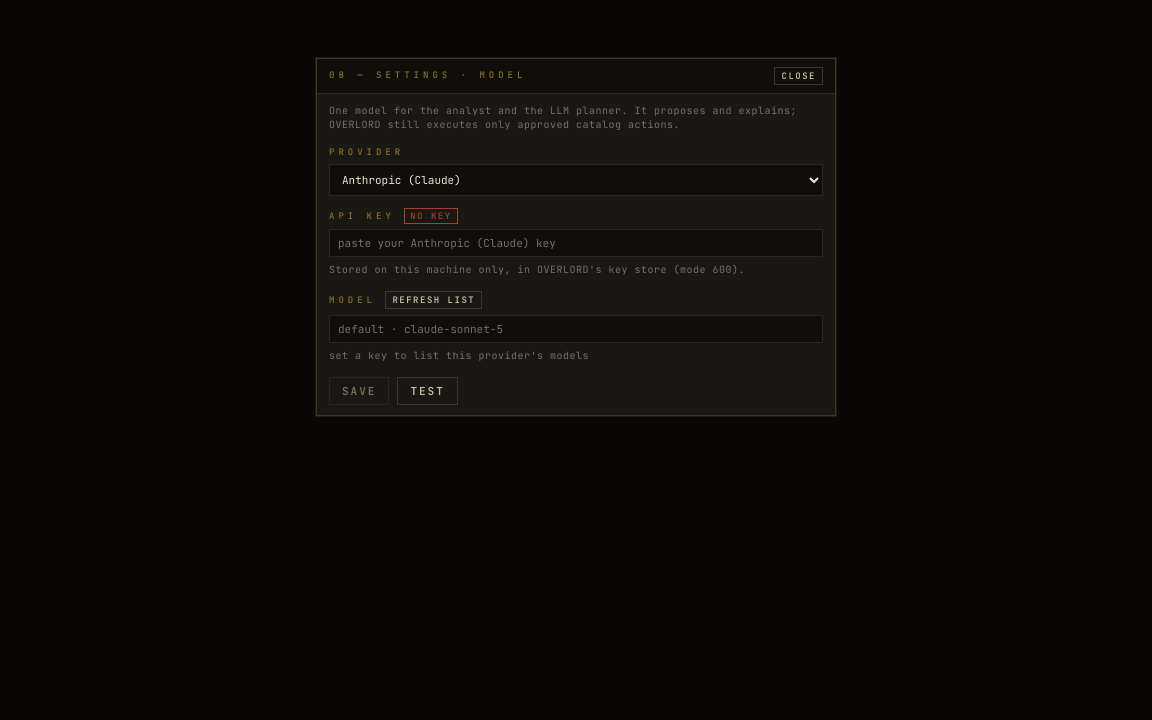
SettingsPanel › switches to GPT, saves the key write-only, and never shows it back
Expected: the text with test id "settings-keystate" reads "no key", [410,210,452,222]
Expected: the button with test id "settings-test" is disabled, [397,377,458,405]
Select "OpenAI (GPT)" in the dropdown with test id "settings-provider" at x=576, y=180, box [329,164,823,196]
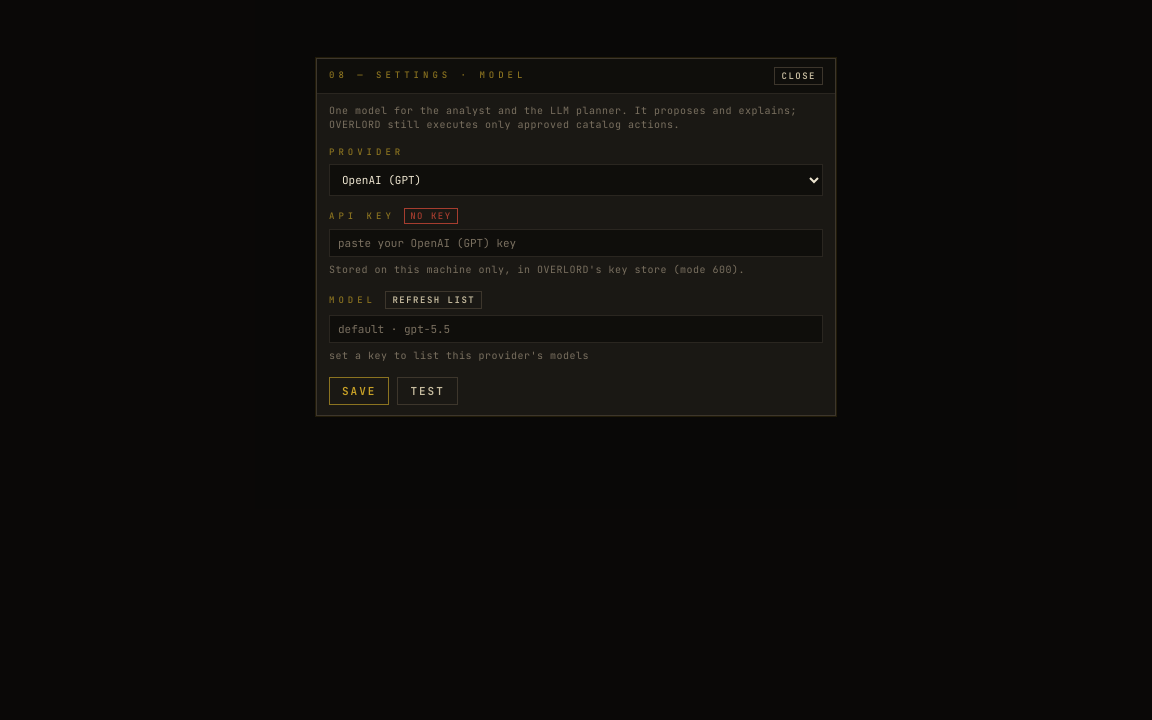
Type "sk-live-abc" into the password field with test id "settings-key" at x=576, y=243, box [329,229,823,257]
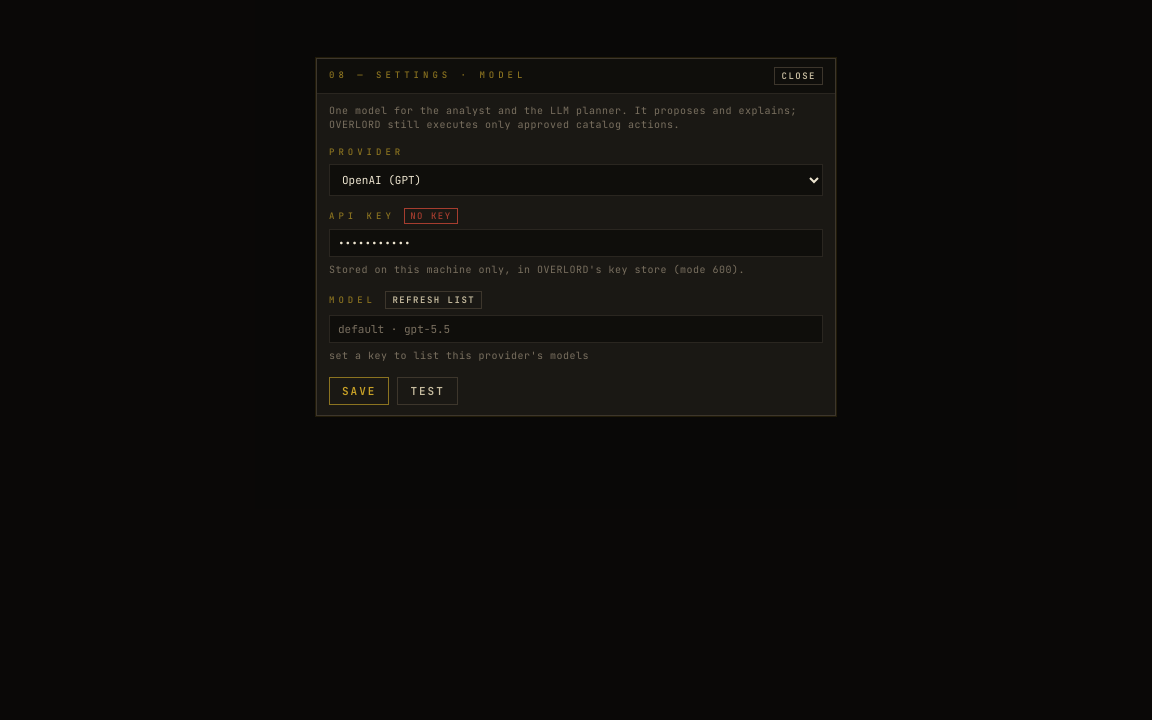
Click the button with test id "settings-save" at x=359, y=391, box [329,377,389,405]
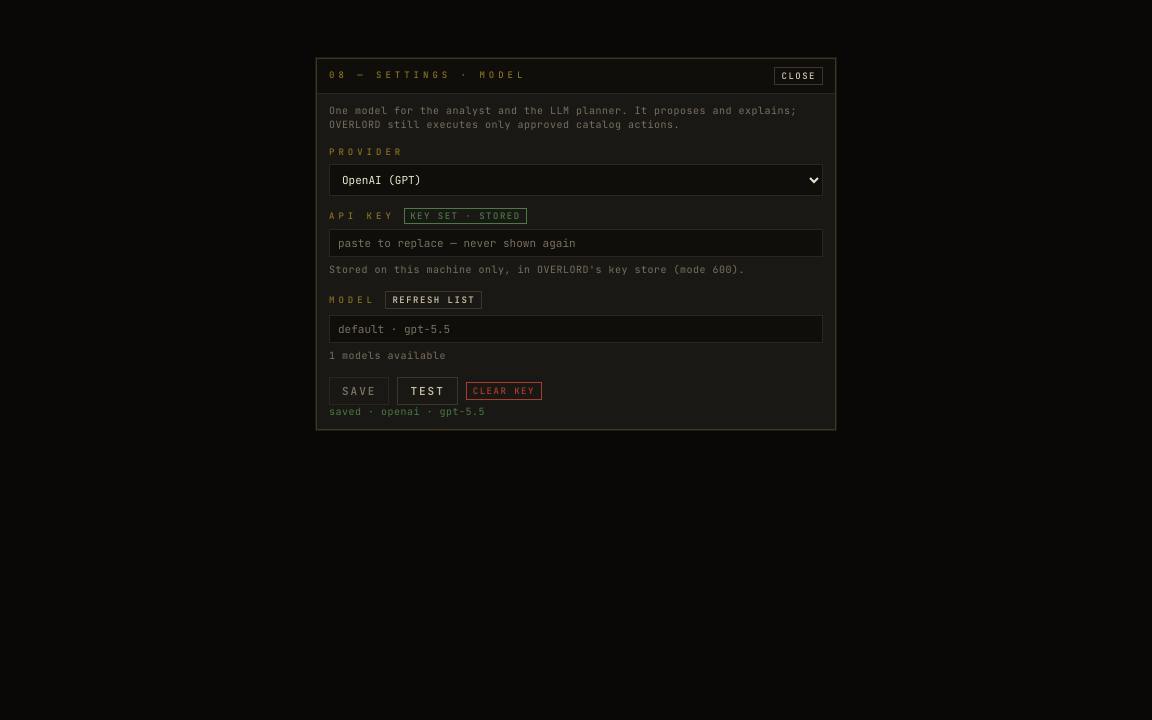
Now the text with test id "settings-msg" reads "saved · openai · gpt-5.5", box [329,405,485,418]
Now the password field with test id "settings-key" is empty, box [329,229,823,257]
Now the text with test id "settings-keystate" reads "key set · stored", box [410,210,521,222]
Click the button with test id "settings-test" at x=428, y=391, box [397,377,458,405]
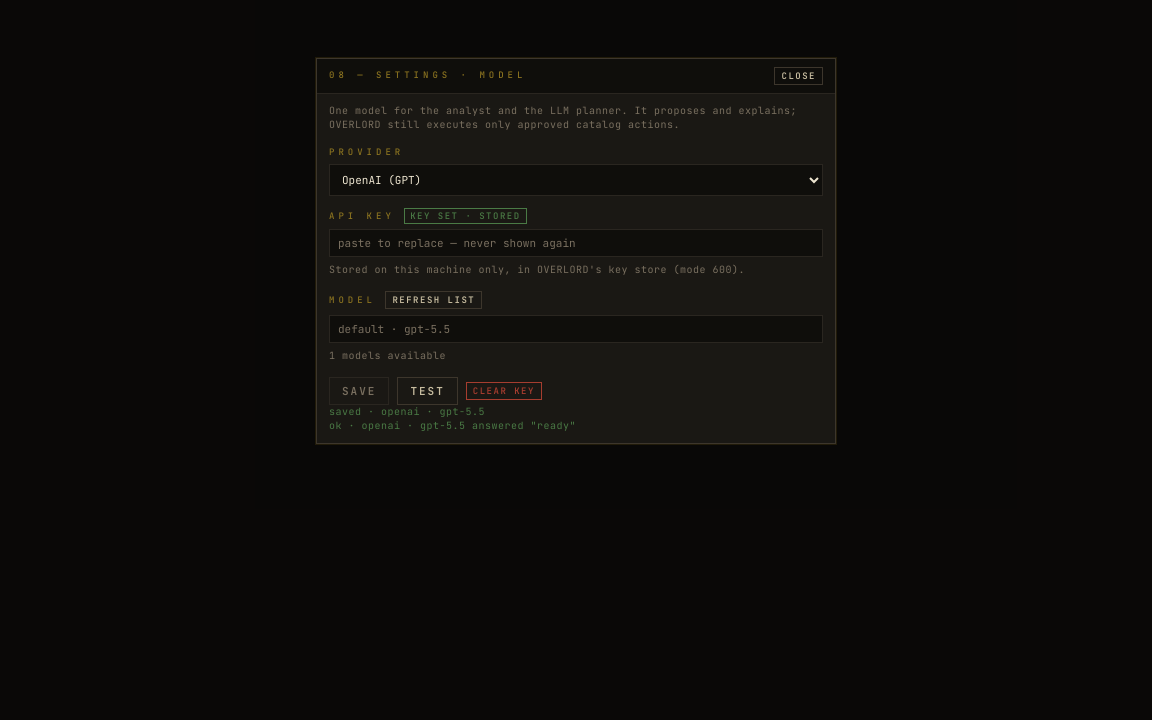
Now the text with test id "settings-test-result" reads "ok · openai · gpt-5.5 answered \"ready\"", box [329,419,576,432]
